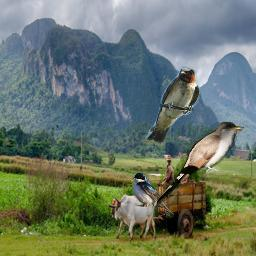Cuckoo: (153, 122, 245, 206)
Swallow: (145, 66, 200, 144), (132, 172, 174, 219)
